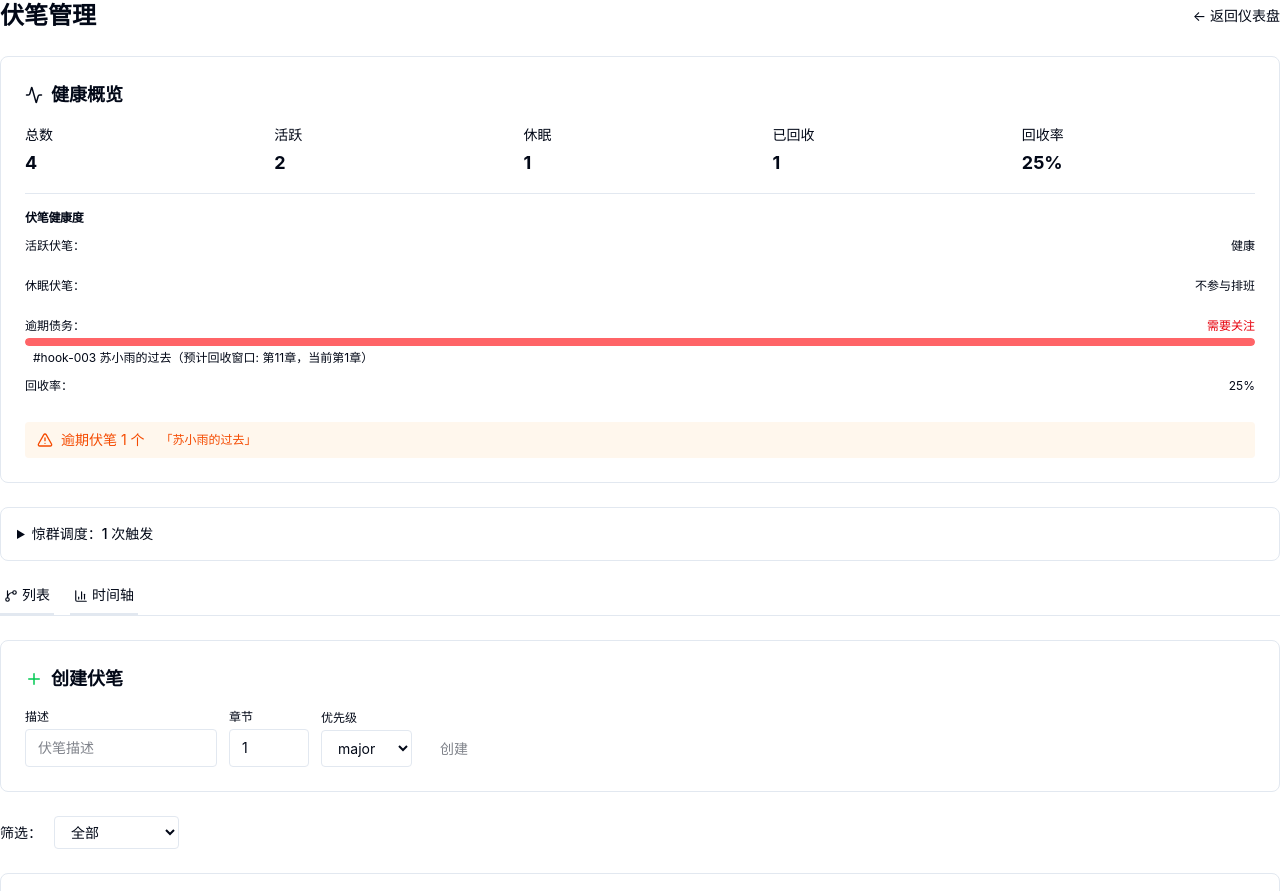
Test case: HookPanel Page › shows timeline tab with chapter density
Expected: the heading "伏笔管理" is shown, top-left (0, 0), bottom-right (96, 32)
Note: Click timeline tab
Click the button "时间轴" at (104, 600), box top-left (70, 585), bottom-right (138, 615)
(page scrolled)
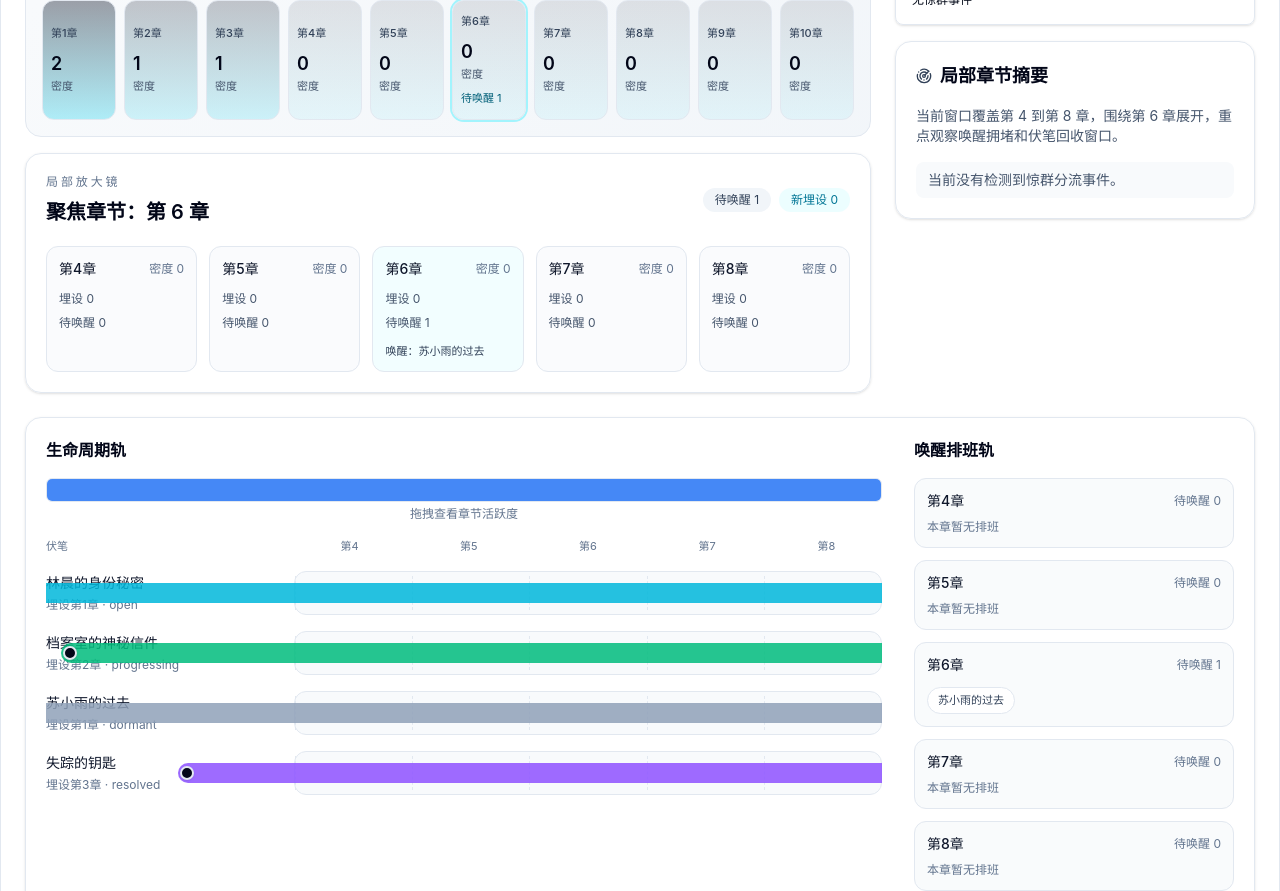
Result: the text "局部放大镜" is shown at top-left (46, 174), bottom-right (120, 188)
Result: the heading "生命周期轨" is shown at top-left (46, 440), bottom-right (126, 460)
Result: the heading "唤醒排班轨" is shown at top-left (914, 440), bottom-right (994, 460)
